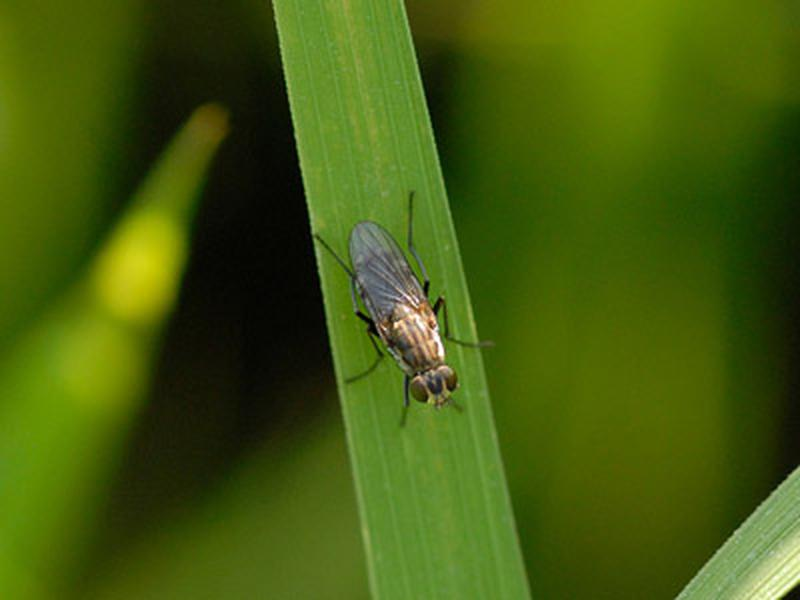Whorl_maggot: (323, 205, 465, 409)
